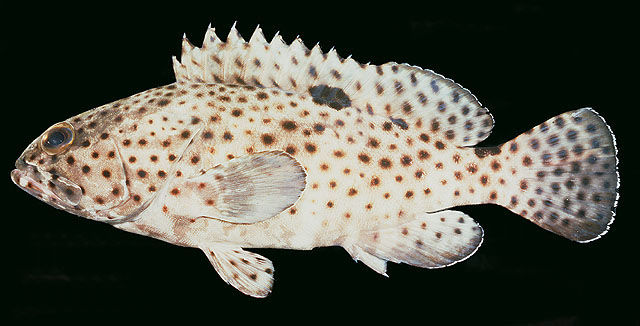fish: (10, 21, 621, 299)
